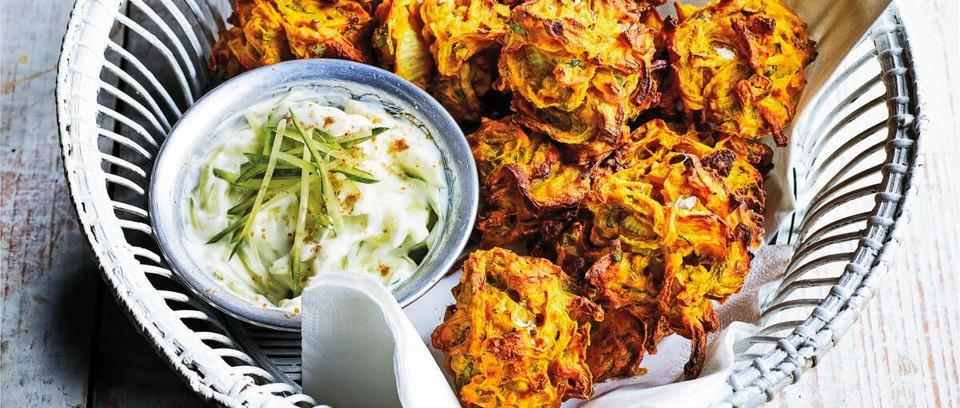OnionPakoda: (205, 0, 813, 408)
